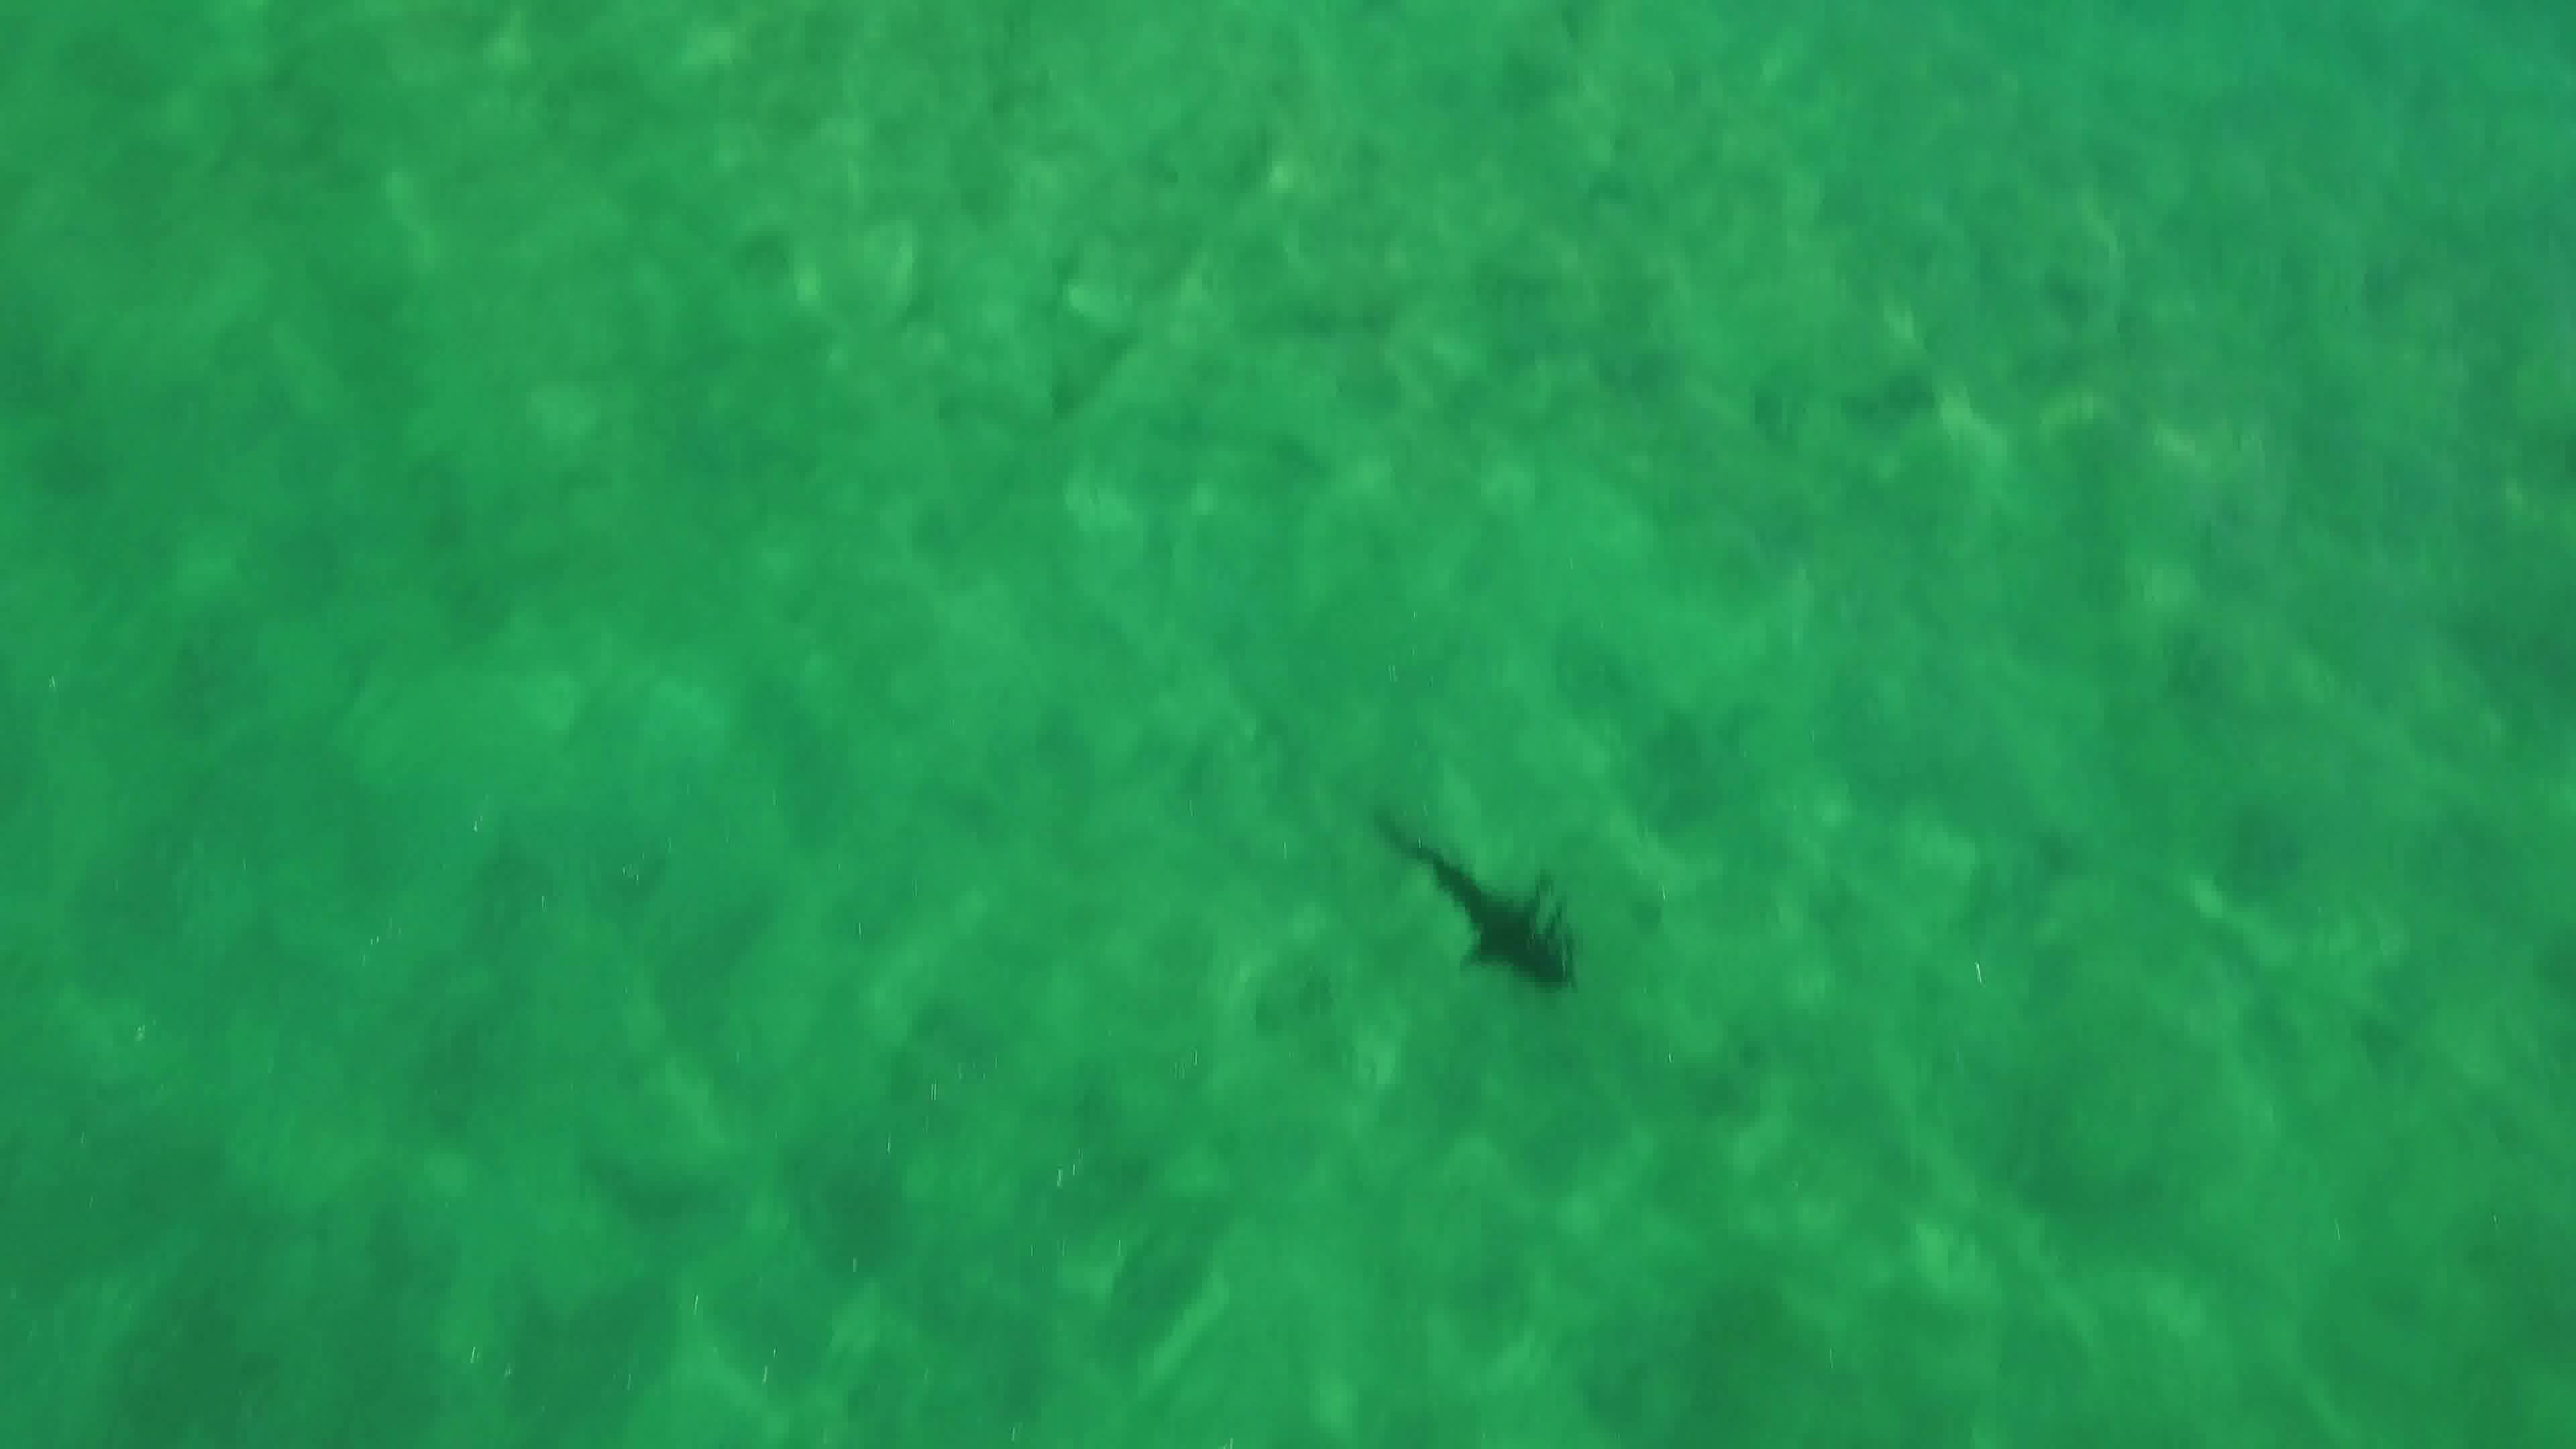shark: (1353, 801, 1580, 1000)
